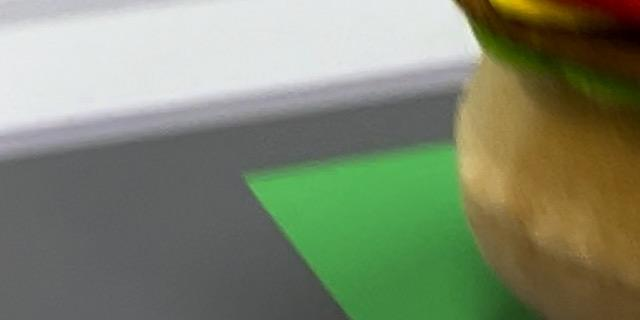burger: (397, 0, 640, 320)
